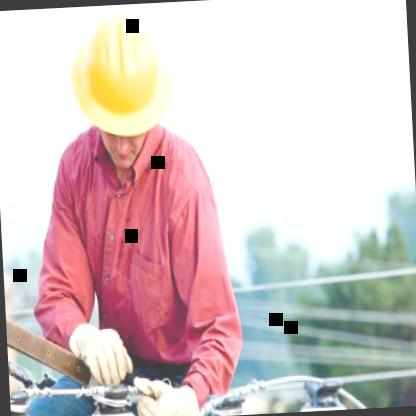helmet: (64, 6, 186, 180)
